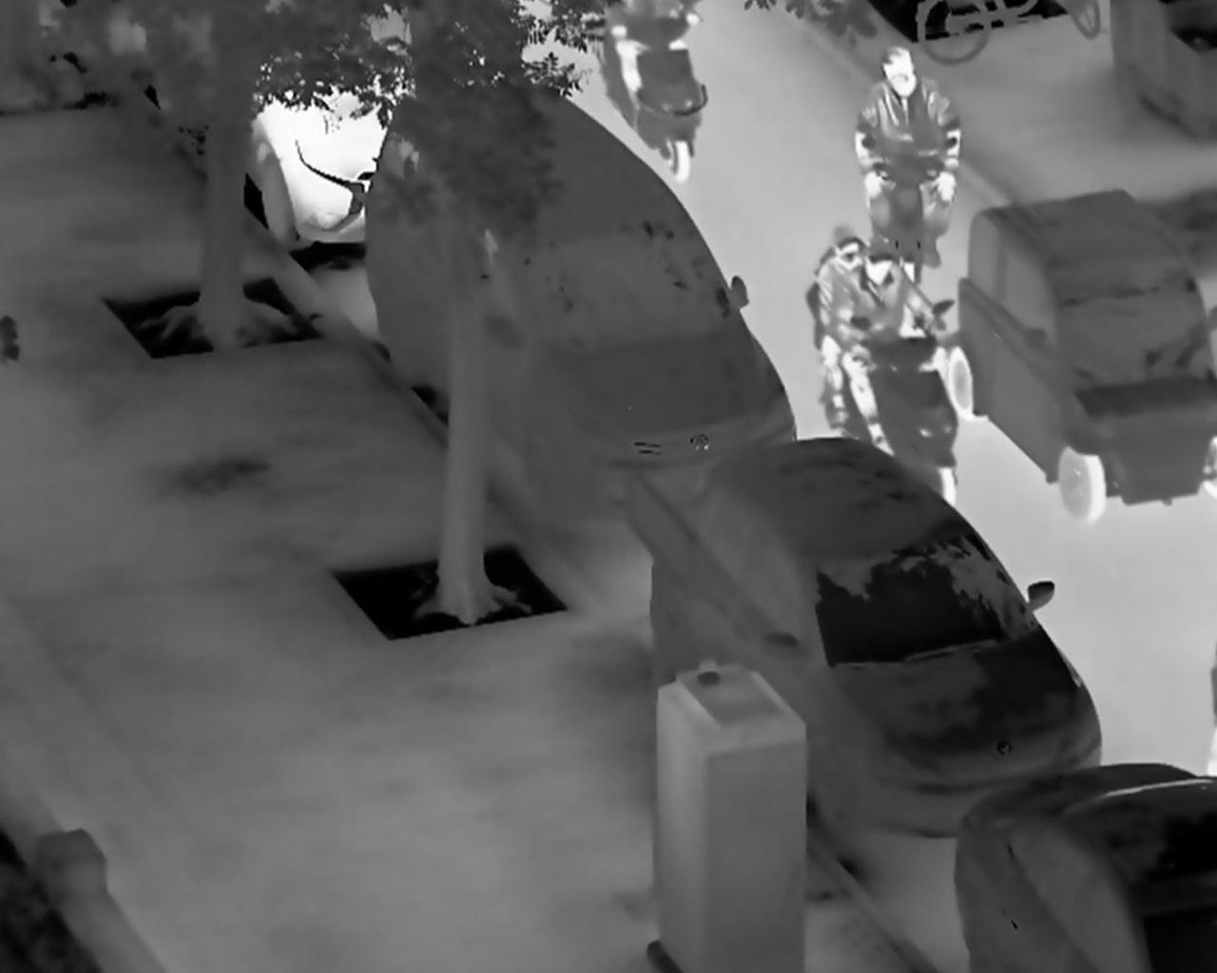person: (825, 235, 959, 457), (850, 45, 960, 268)
